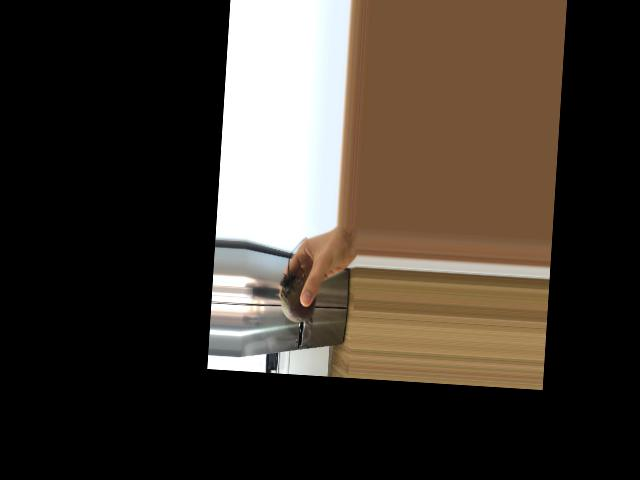beet: (277, 236, 319, 331)
